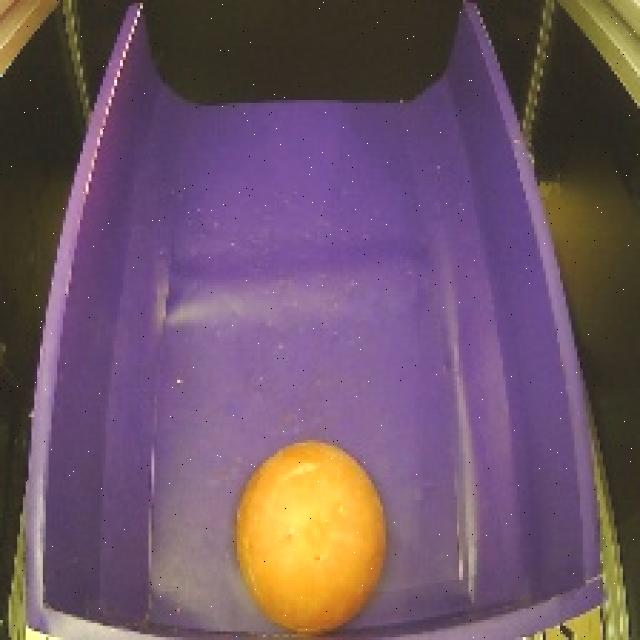carrots: (219, 438, 398, 640)
